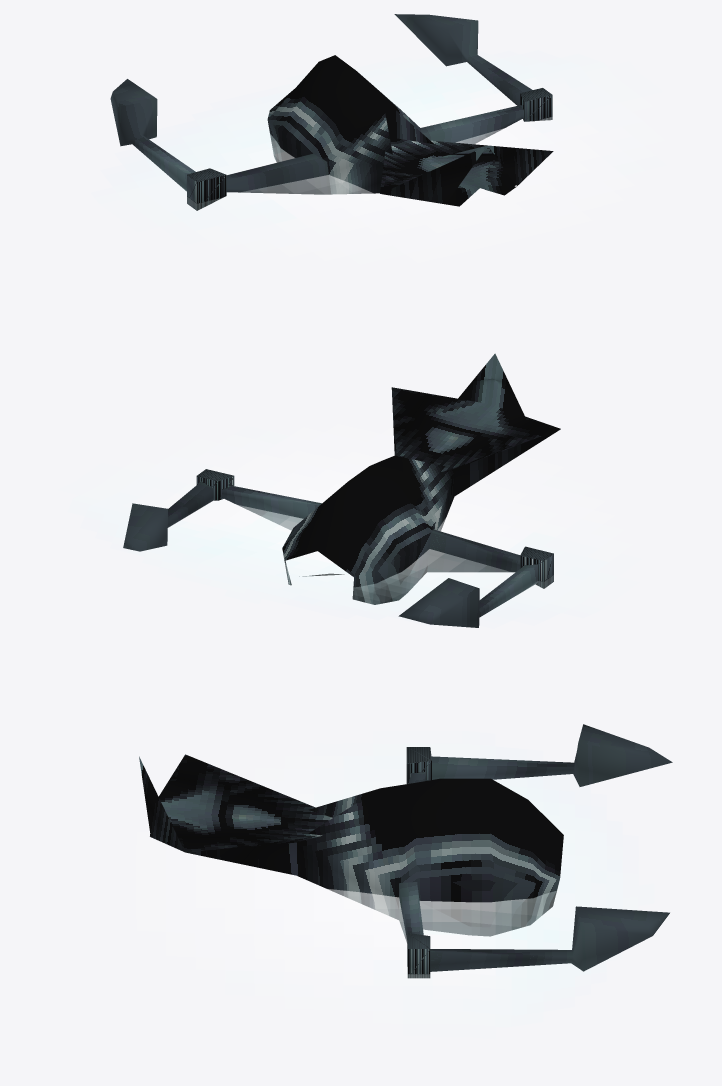
Rendered from sbot_cmp.gltf.
3 renders of one model, top to bottom at view 1: azimuth 30°, elevation 25°; view 2: azimuth 150°, elevation 25°; view 3: azimuth 270°, elevation 25°, orthographic. The views are drawn at different scales.
Visible parts, largest first — view 1: Root, rightarm, leftarm; view 2: Root, rightarm, leftarm; view 3: Root, leftarm, rightarm.
Part boxes in pixels (x1,y1,x2,y2): Root: (177,55,599,236); rightarm: (110,79,330,210); leftarm: (394,14,552,144); Root: (155,353,566,604); rightarm: (398,529,553,627); leftarm: (123,469,321,551); Root: (139,754,590,990); leftarm: (399,882,669,978); rightarm: (406,724,672,786).
Size of the model in its own units: 7.49 by 1.37 by 5.65.
4 materials, 4 textured.
